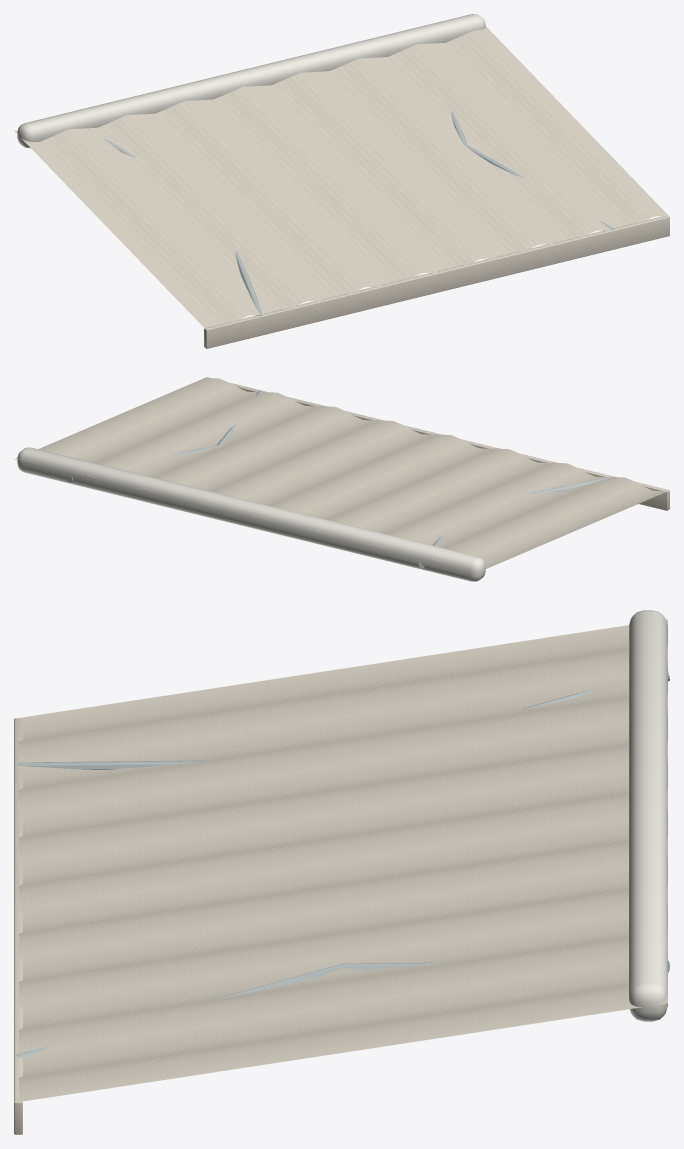
The model's file is toldo_terraza_exterior.glb.
3 views of the same model, one above another, from view 1: azimuth 30°, elevation 25°; view 2: azimuth 150°, elevation 25°; view 3: azimuth 270°, elevation 25° (orthographic). The views are drawn at different scales.
Visible parts, largest first — view 1: toldo_terraza_exterior; view 2: toldo_terraza_exterior; view 3: toldo_terraza_exterior.
Boxes of the visible parts, x1=… form: toldo_terraza_exterior: x1=14, y1=14, x2=669, y2=348; toldo_terraza_exterior: x1=14, y1=377, x2=669, y2=581; toldo_terraza_exterior: x1=14, y1=610, x2=669, y2=1134.
Size of the model in its own units: 3.5 by 0.62 by 2.53.
3 materials, 1 textured.
